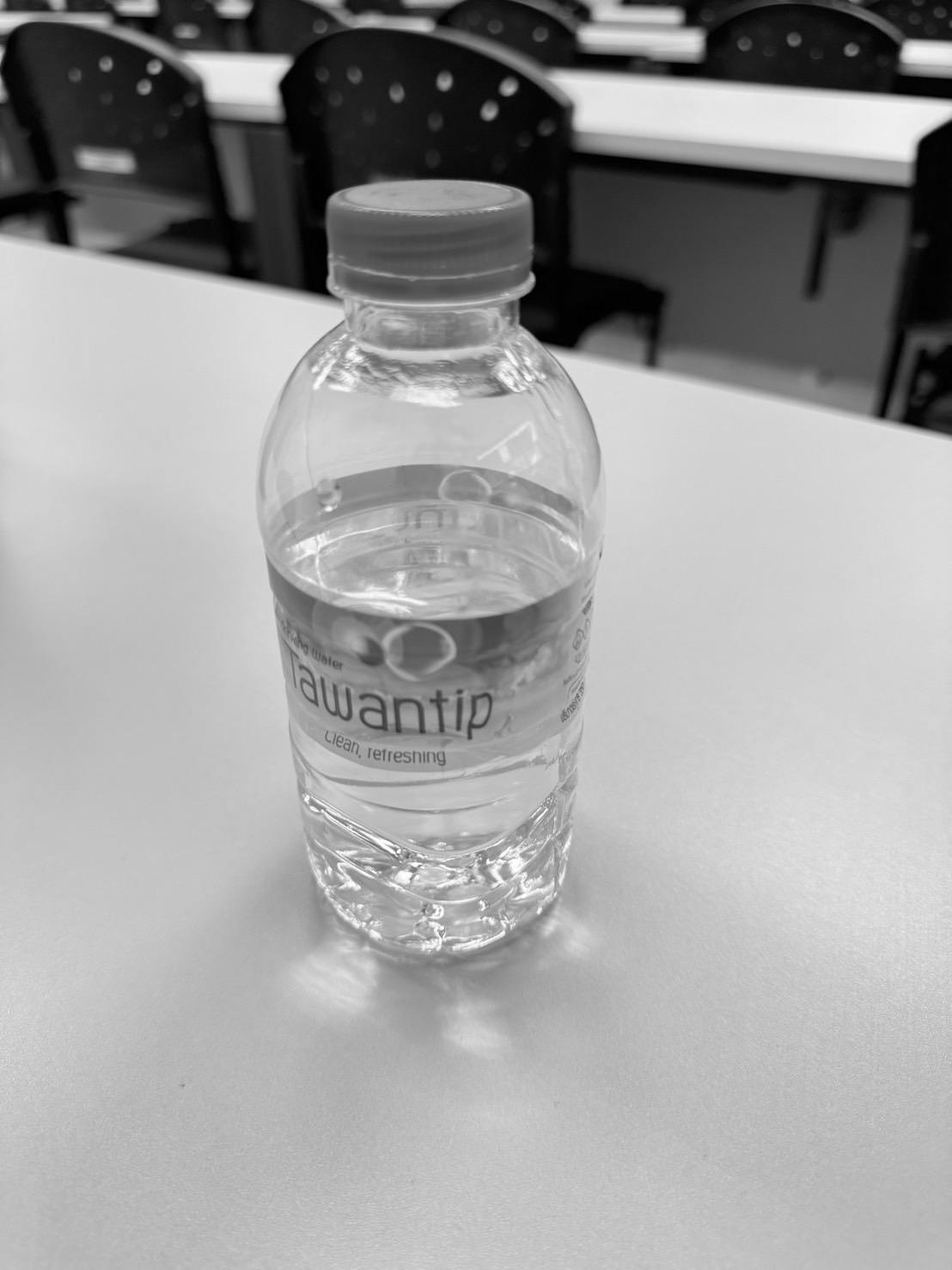bottle: (259, 182, 604, 960)
